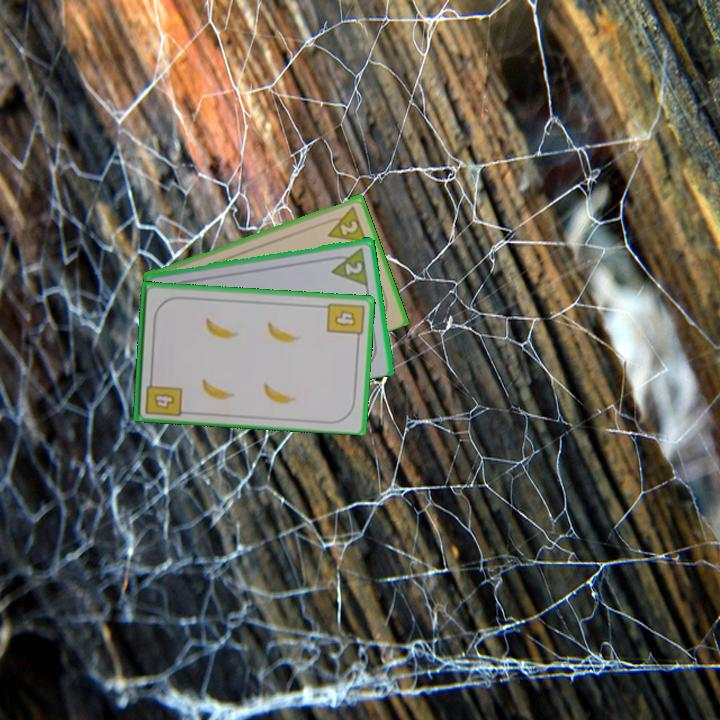2p: (320, 202, 369, 245), (326, 243, 372, 288)
4b: (323, 299, 367, 344), (141, 372, 184, 418)
